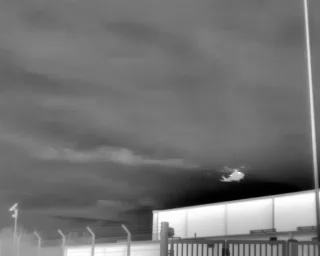HELICOPTER: (214, 160, 259, 188)
